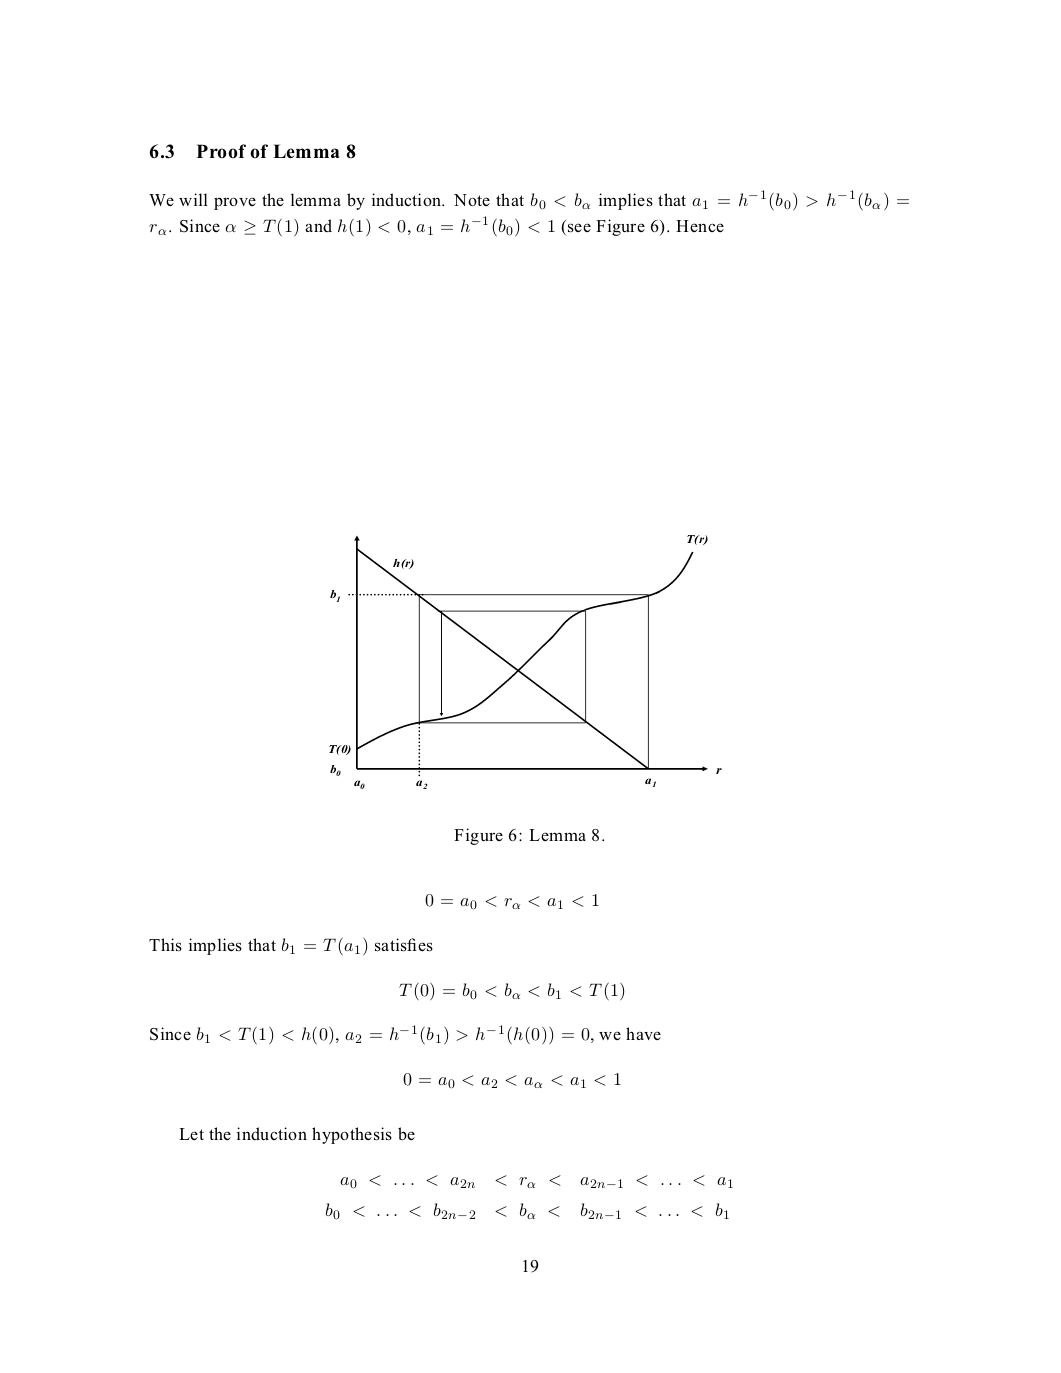figure: (329, 534, 721, 789)
formula: (325, 1202, 728, 1220), (340, 1174, 732, 1189), (399, 981, 624, 1001), (403, 1072, 620, 1089), (425, 892, 598, 911)
